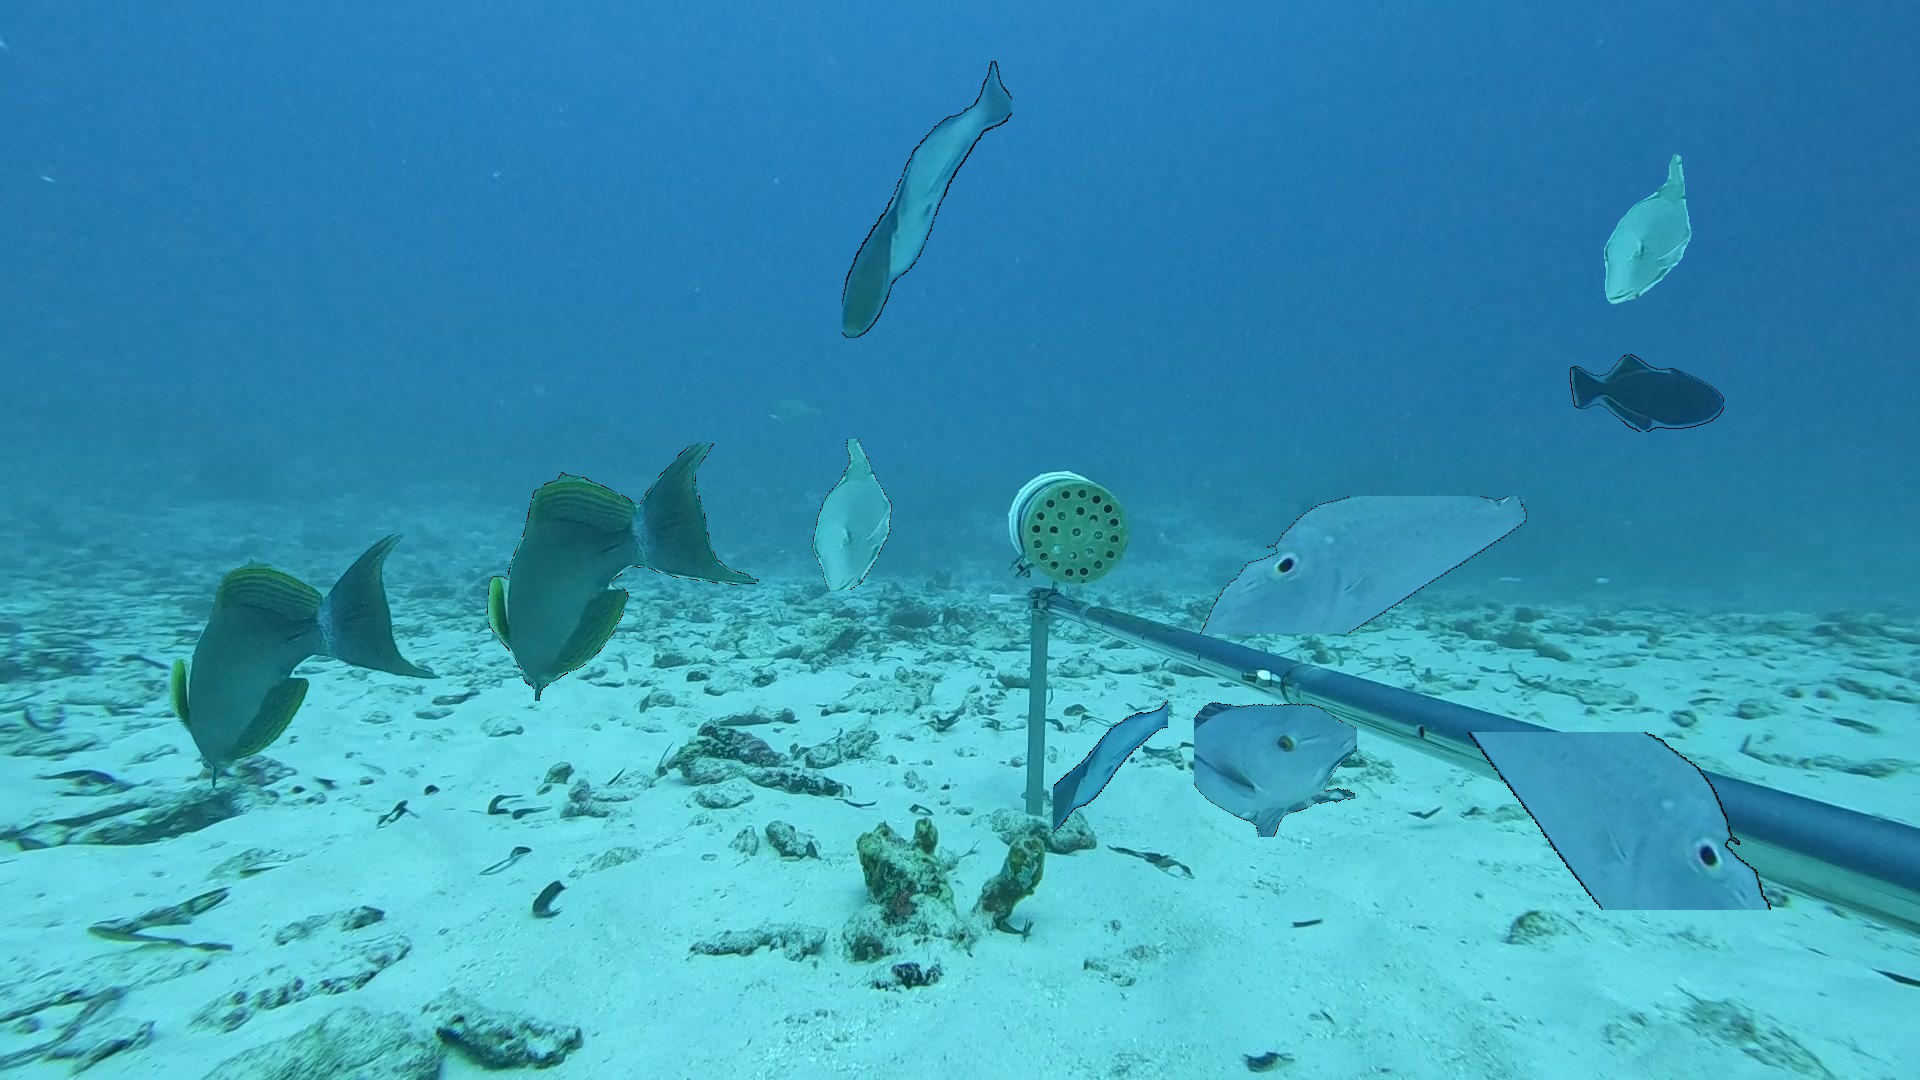fish: (1395, 732, 1845, 910), (169, 531, 442, 790), (487, 443, 760, 702), (1185, 496, 1534, 634), (843, 61, 1011, 338), (1193, 673, 1357, 837), (1054, 669, 1168, 856), (1604, 154, 1692, 305), (804, 439, 891, 589), (1571, 353, 1724, 433), (760, 396, 829, 427)
